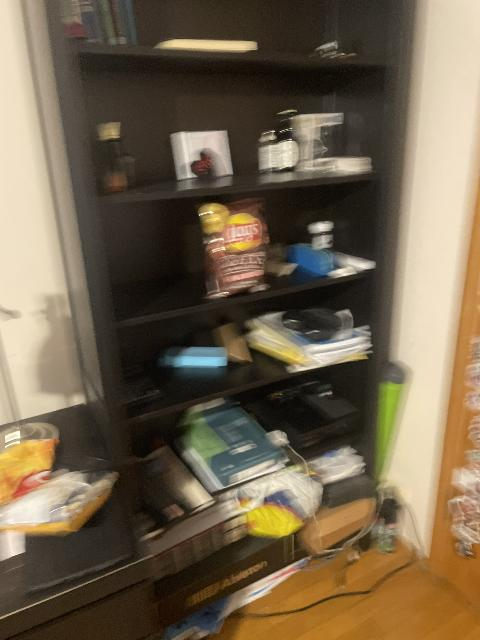Chio Cascaval 125g: (1, 467, 118, 537)
Chio Hula Hoops Cheese 70g: (0, 435, 61, 511)
Lays Beef Grilled Ribs 125g: (197, 197, 271, 298)
